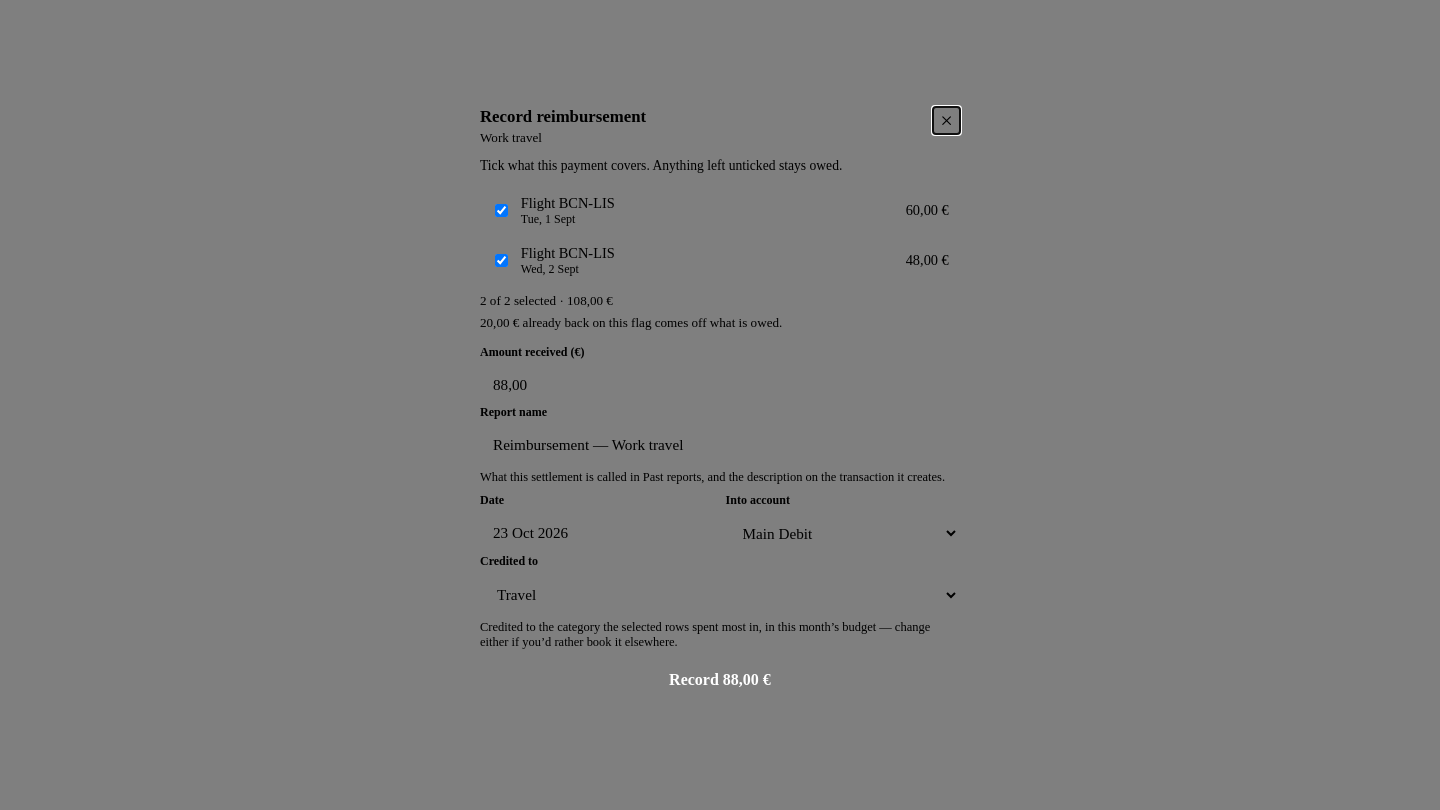
Test case: RecordReimbursementSheet — the amount check once money is already back › still flags a payment that asks for the refund back as well
Clear the field named "Amount received". click: (733, 385)
box: [480,364,986,405]
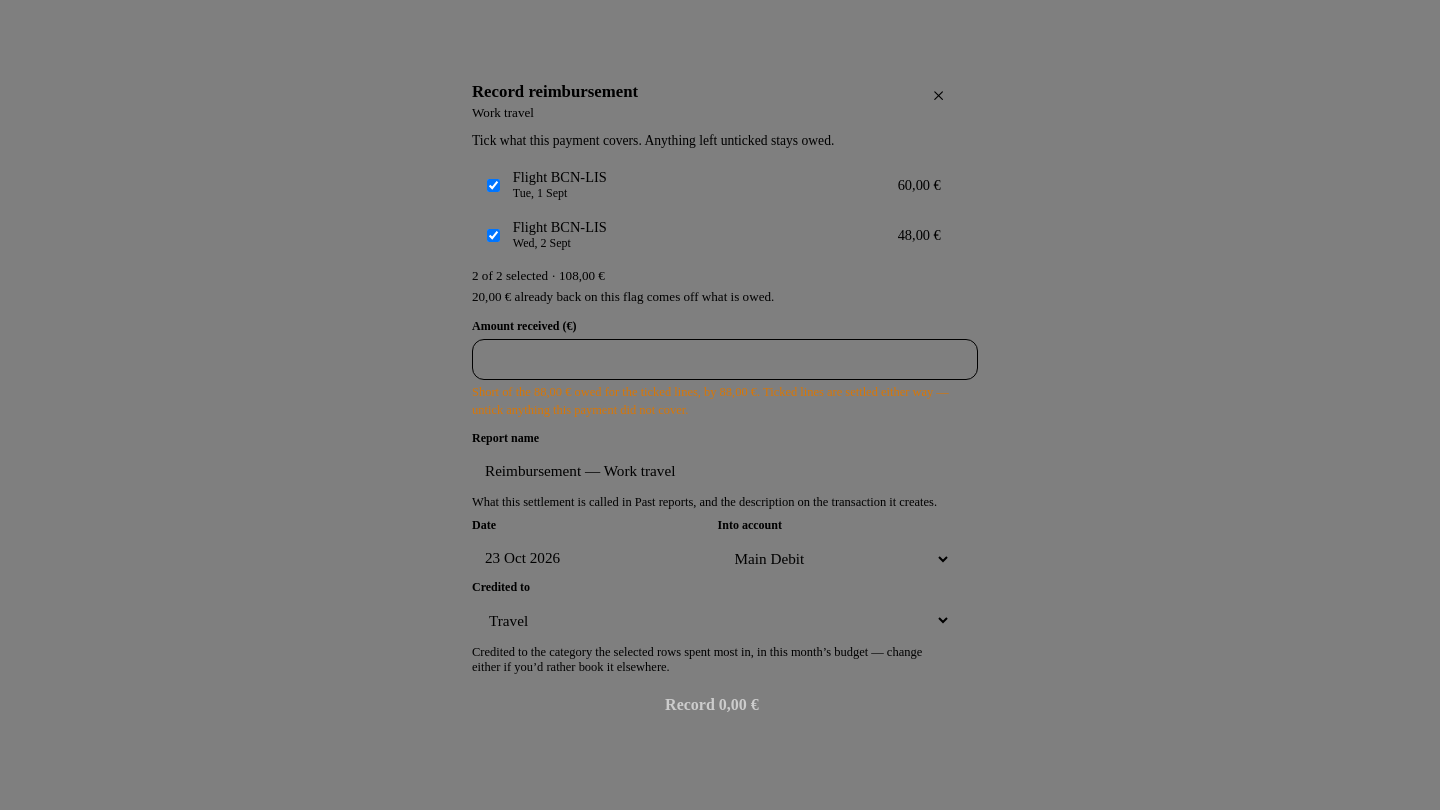
Type "108,00" into the field named "Amount received". click: (725, 359)
box: [472,339,978,380]
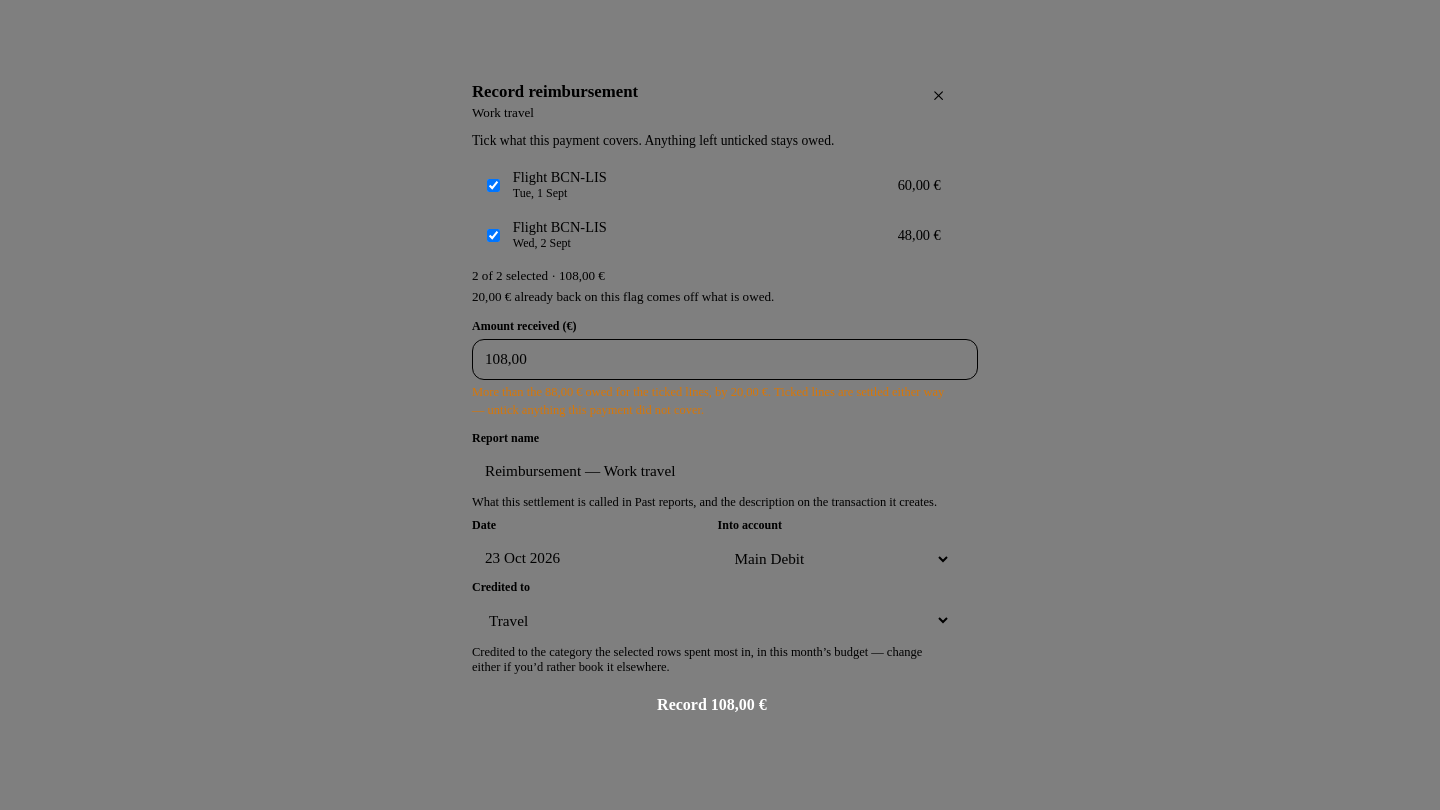
Check: the text "More than the 88,00 € owed for the ticked lines, by 20,00 €" is shown, box [472,385,944,417]
